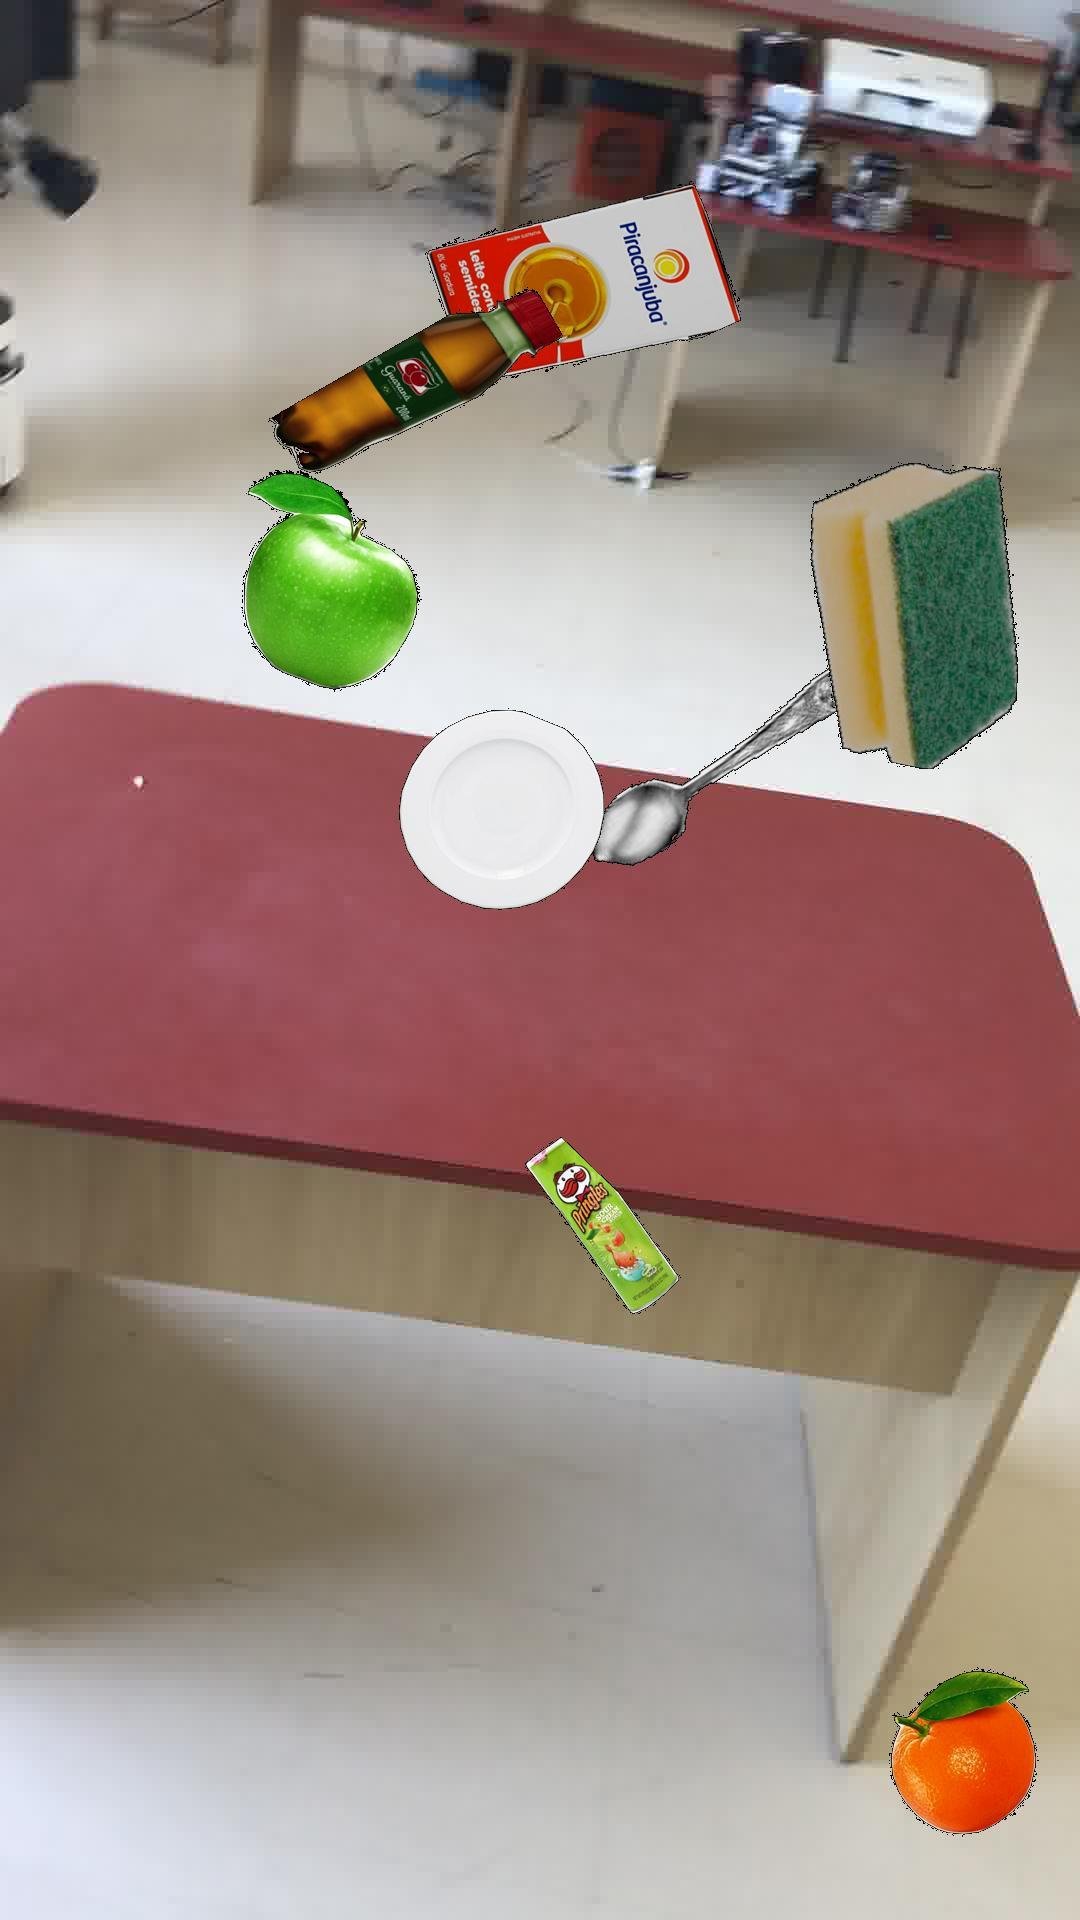green apple: (241, 468, 418, 691)
guarana: (268, 287, 562, 472)
orange: (887, 1668, 1034, 1833)
plate: (397, 708, 604, 909)
pringles: (524, 1135, 678, 1312)
sponge: (808, 462, 1017, 767)
spoon: (591, 666, 836, 865)
